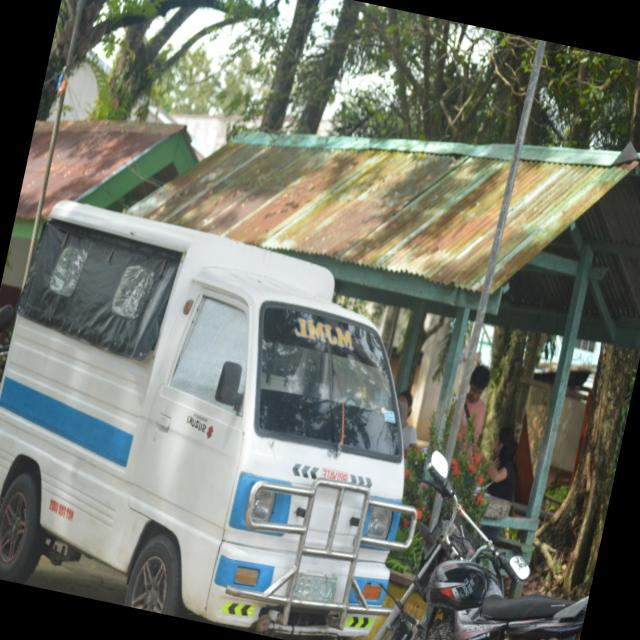person: (486, 427, 517, 502), (459, 365, 489, 440), (397, 391, 416, 449)
